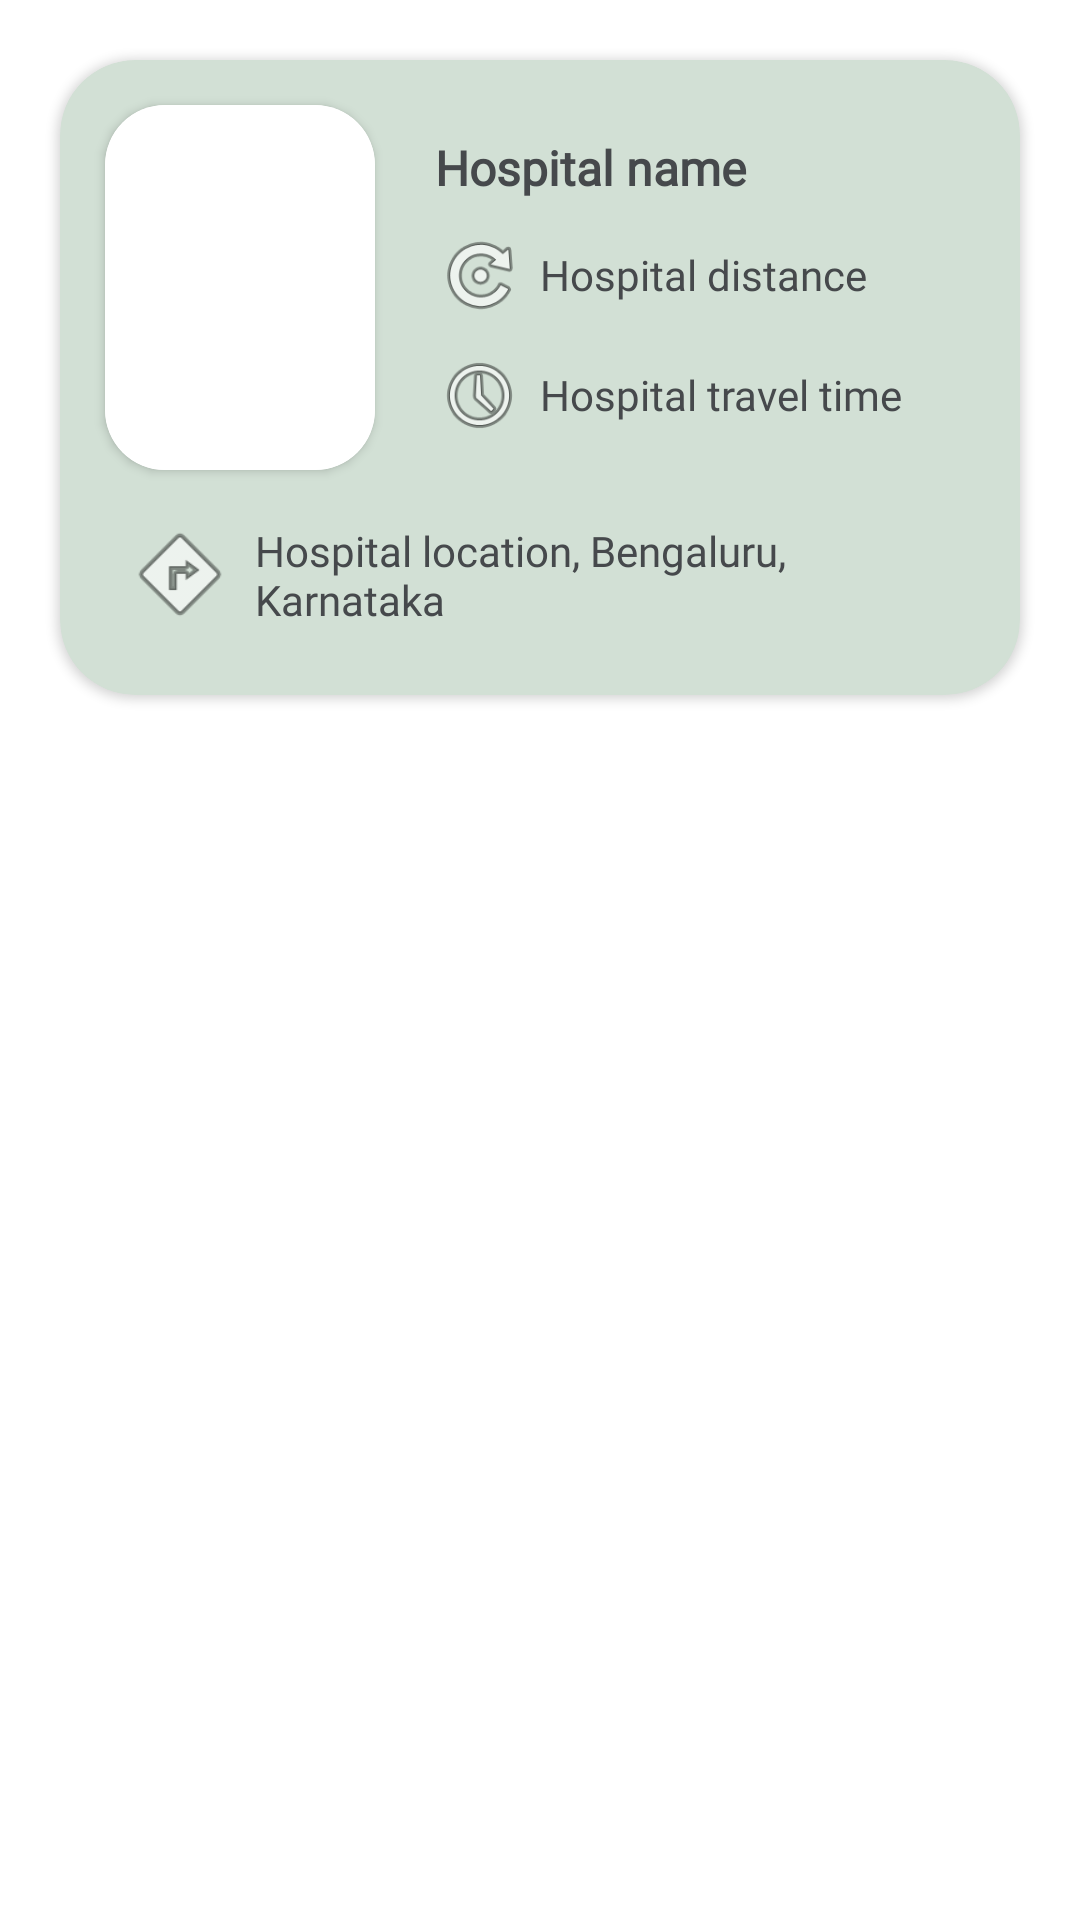

Icon click points for this 1080*1920 phone screenshot, format [x,y]:
directions: [180,574]
recent history: [479,395]
rotate: [480,275]
